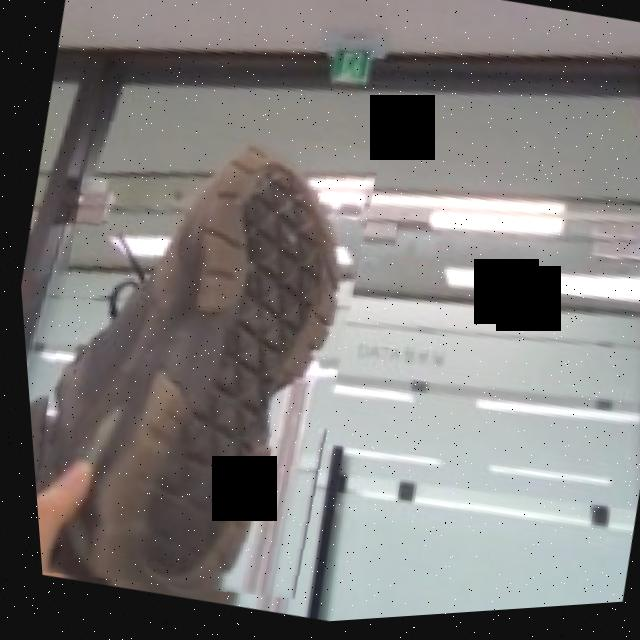shoe: (6, 92, 405, 634)
